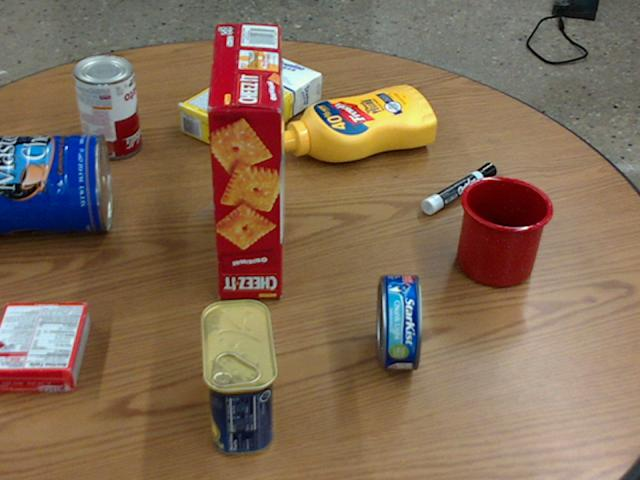cracker_box: (203, 24, 284, 298)
gelatin_box: (0, 302, 90, 390)
large_marker: (422, 162, 496, 213)
master_chef_can: (0, 132, 109, 234)
mug: (456, 175, 553, 286)
mustard_bottle: (274, 86, 436, 160)
potted_meat_can: (200, 299, 279, 455)
sugar_box: (179, 50, 322, 155)
tomato_soup_can: (73, 54, 140, 159)
tuna_fish_can: (379, 273, 419, 369)
